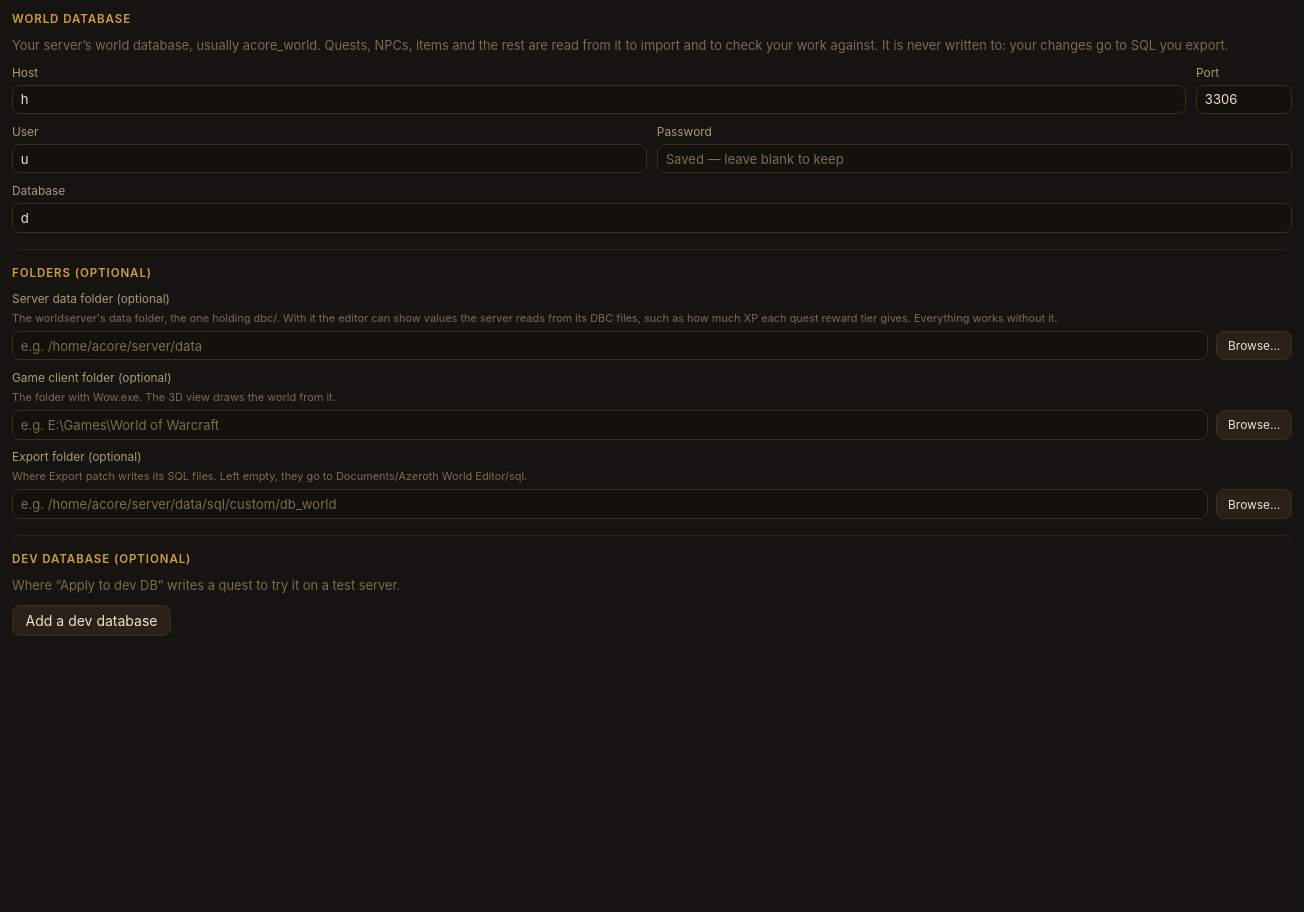
Test: ConnectionFields › fills a folder from Browse
What coordinates should you click on to do the following:
click the button with aria-label "Browse for the server data folder"
I would click on:
 (1254, 346)
Its box is [1216, 331, 1292, 360].
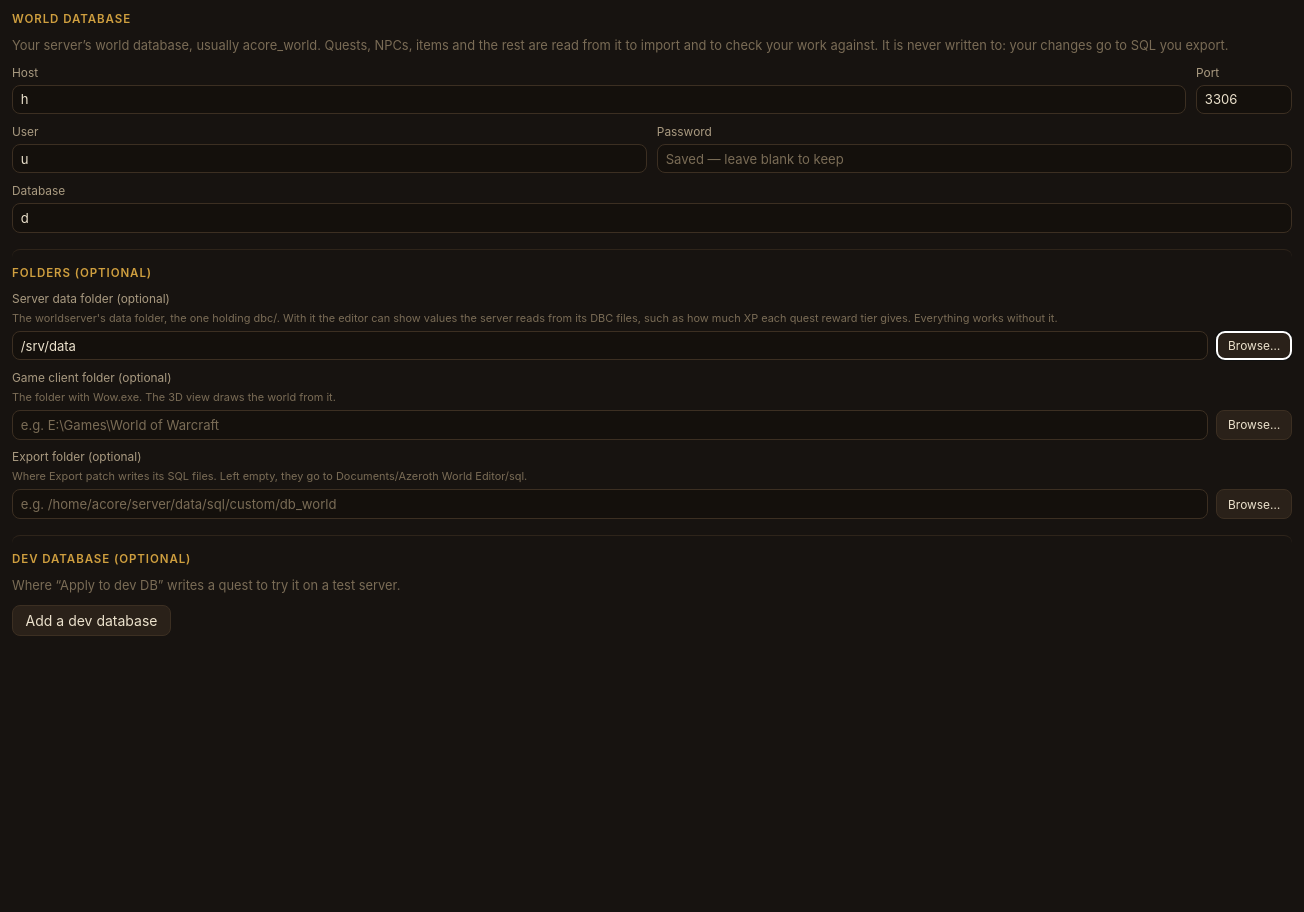
expect the field labelled "Game client folder (optional)" is empty: met, box [12, 410, 1208, 440]
expect the field labelled "Server data folder (optional)" holds "/srv/data": met, box [12, 331, 1208, 360]
